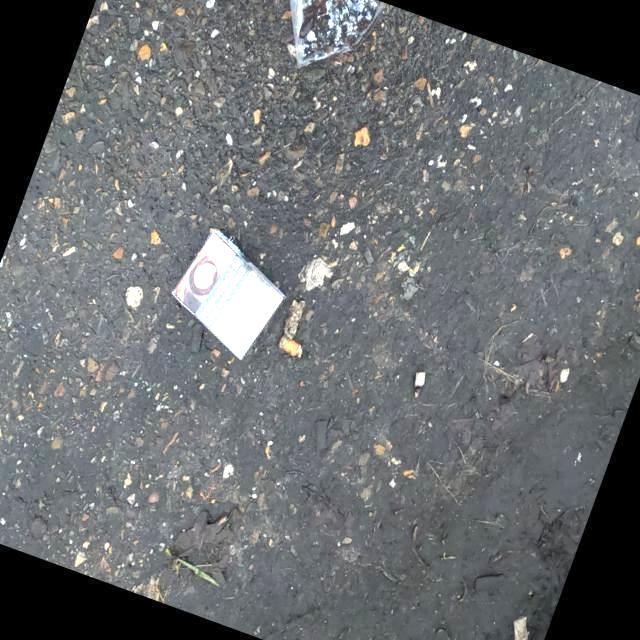Paper: (168, 222, 290, 362)
